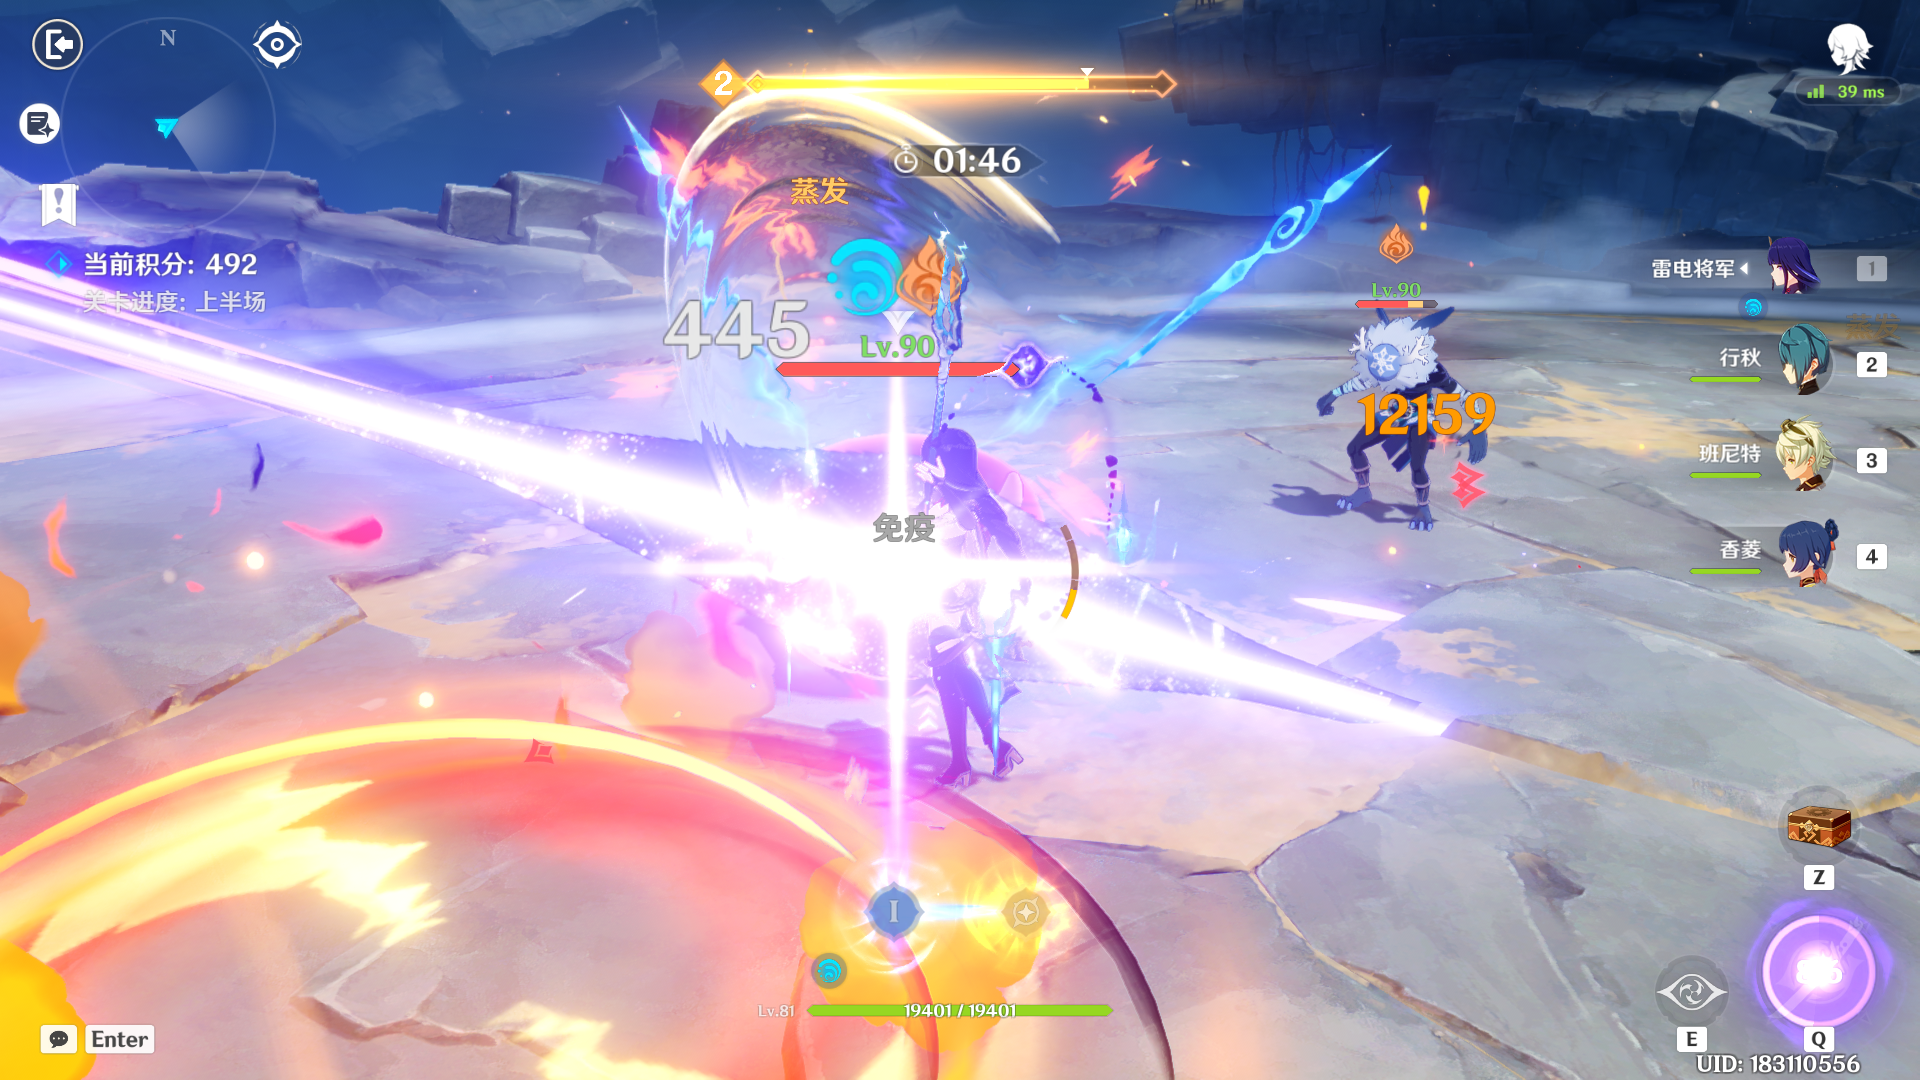character: (825, 375, 1106, 843)
hili: (1288, 289, 1515, 605)
